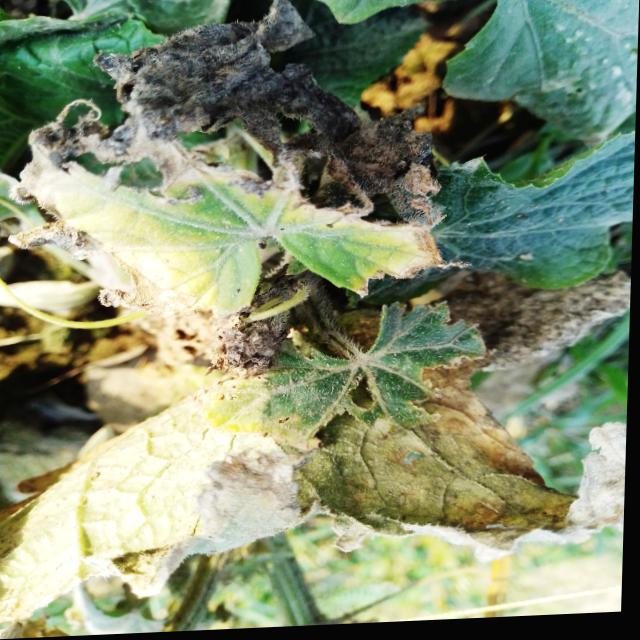Bacterial-Wilt: (113, 373, 627, 601)
